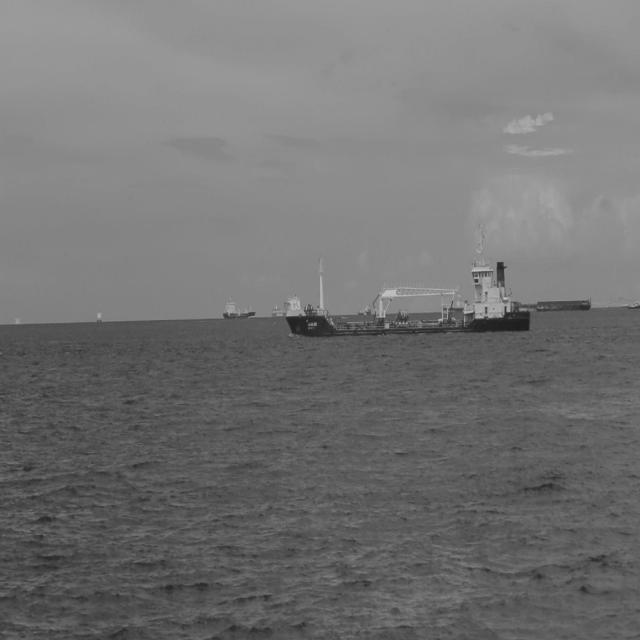ship: (284, 212, 534, 346), (219, 288, 258, 325), (536, 296, 594, 314)
